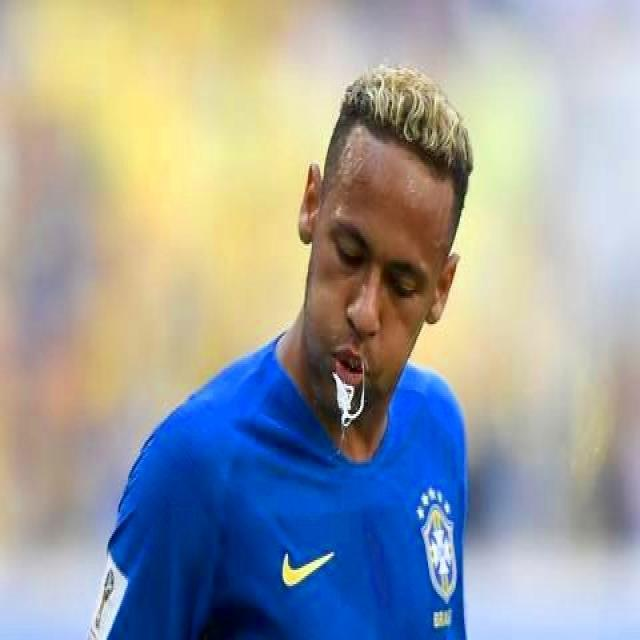Spitting: (292, 69, 478, 468)
